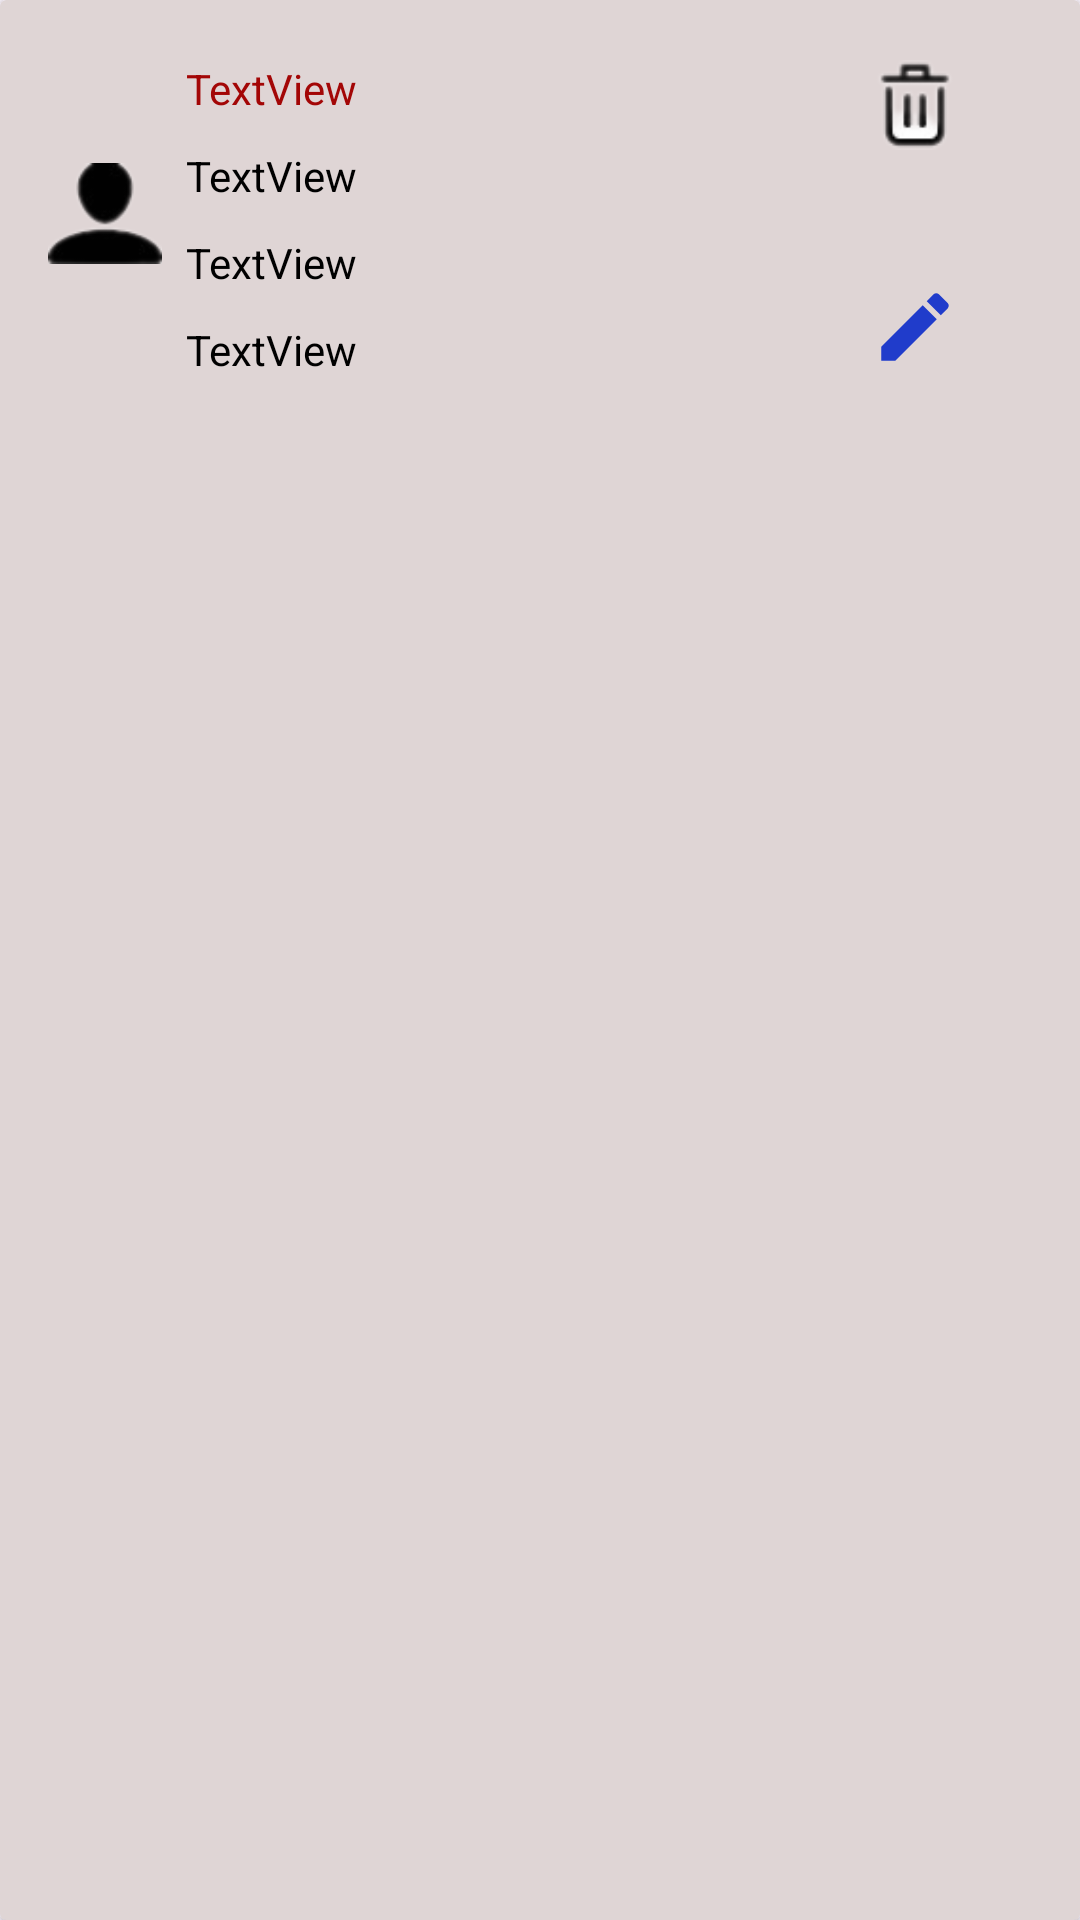

Named icons in this screenshot (1080*1920) and their centers, [x,y]:
edit: [915,327]
